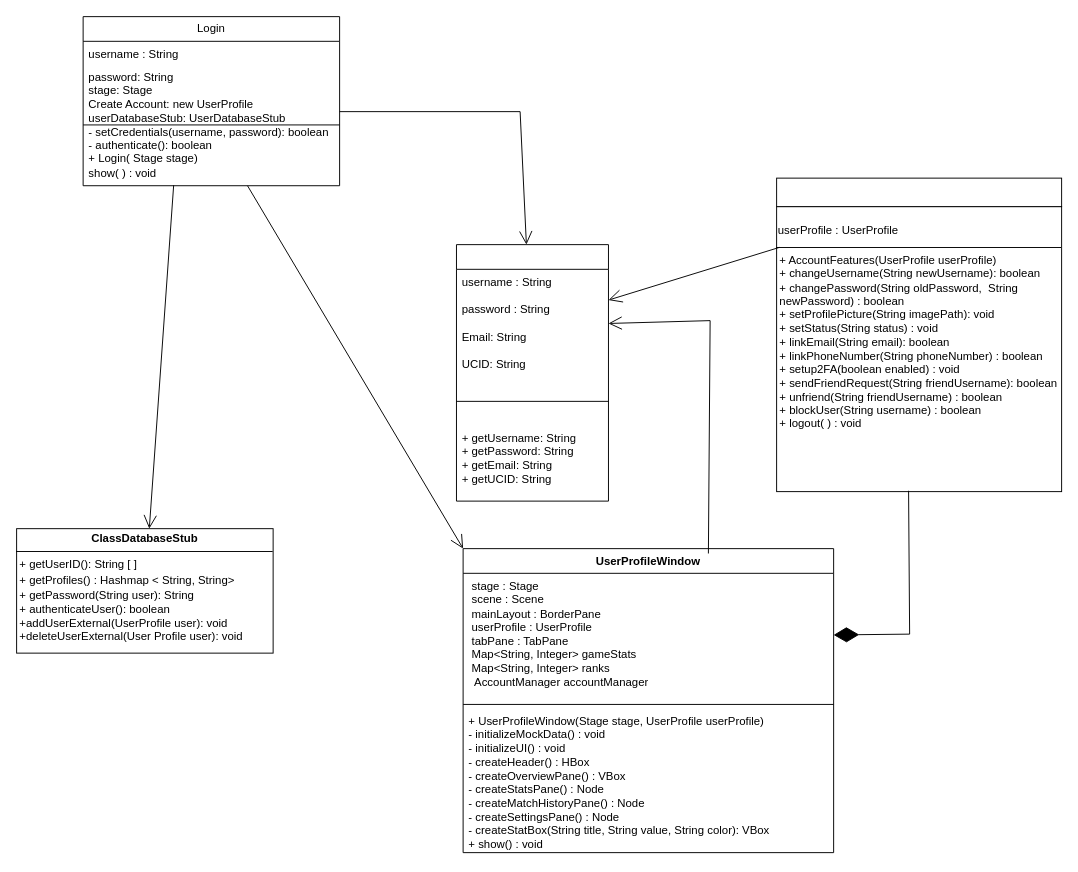
Image size: 1078x872. Some labels were removed from this diagram. Here are the shapes that lost their labels. From the top down, the box of each, then its label:
(776, 177, 1062, 207): AccountFeatures
(456, 244, 608, 501): UserProfile
